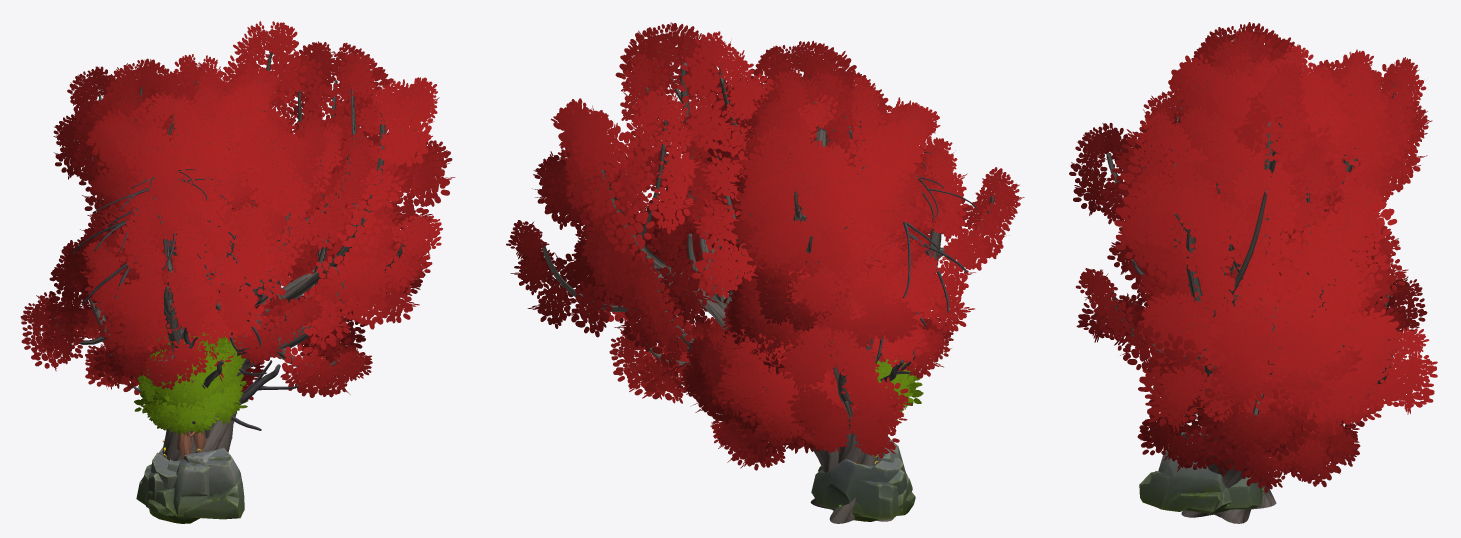
The model's file is naturaleza.glb.
The picture shows the model from 3 angles, left to right: view 1: azimuth 30°, elevation 25°; view 2: azimuth 150°, elevation 25°; view 3: azimuth 270°, elevation 25°; orthographic projection. The views are drawn at different scales.
Visible parts, largest first — view 1: TwistedTree_3, TwistedTree_1, TwistedTree_5, Rock_Medium_3, CommonTree_2, CommonTree_1, Rock_Medium_1, CommonTree_3, DeadTree_1, DeadTree_3, Rock_Medium_2, CommonTree_5; view 2: TwistedTree_1, TwistedTree_3, TwistedTree_5, Rock_Medium_2, DeadTree_3, Rock_Medium_3; view 3: TwistedTree_1, TwistedTree_3, TwistedTree_5, Rock_Medium_3, Rock_Medium_2.
Part boxes in pixels (box(x1,y1,x2,y2)): TwistedTree_3: box(20, 54, 377, 460); TwistedTree_1: box(106, 21, 455, 508); TwistedTree_5: box(60, 58, 330, 460); Rock_Medium_3: box(148, 447, 244, 523); CommonTree_2: box(137, 330, 246, 450); CommonTree_1: box(134, 335, 248, 434); Rock_Medium_1: box(145, 451, 215, 516); CommonTree_3: box(144, 299, 245, 450); DeadTree_1: box(109, 271, 298, 438); DeadTree_3: box(73, 169, 263, 432); Rock_Medium_2: box(136, 447, 177, 506); CommonTree_5: box(141, 356, 237, 432); TwistedTree_1: box(506, 22, 929, 523); TwistedTree_3: box(678, 40, 1024, 470); TwistedTree_5: box(706, 67, 949, 466); Rock_Medium_2: box(811, 458, 903, 519); DeadTree_3: box(804, 145, 976, 359); Rock_Medium_3: box(818, 452, 915, 515); TwistedTree_1: box(1075, 62, 1437, 523); TwistedTree_3: box(1069, 28, 1432, 480); TwistedTree_5: box(1133, 22, 1426, 319); Rock_Medium_3: box(1139, 443, 1225, 511); Rock_Medium_2: box(1224, 477, 1262, 509).
Size of the model in its own units: 15.83 by 16.86 by 11.71.
Materials: 11 (11 with a texture image).
